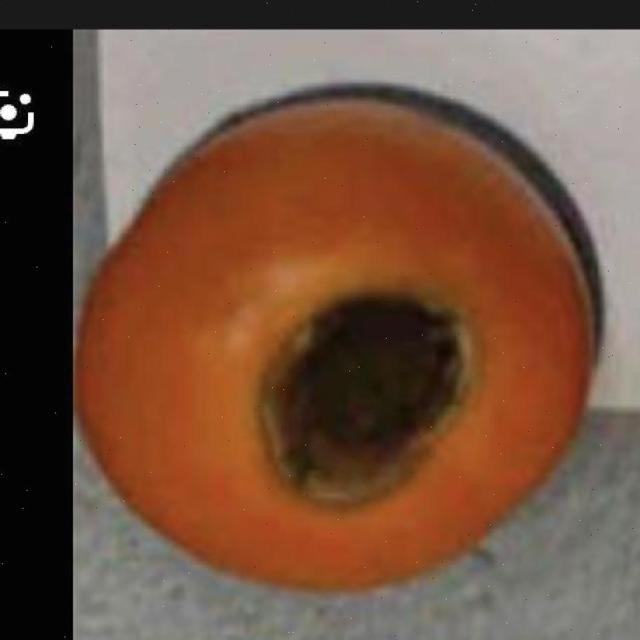Blossom End Rot Fruit: (173, 195, 319, 345)
